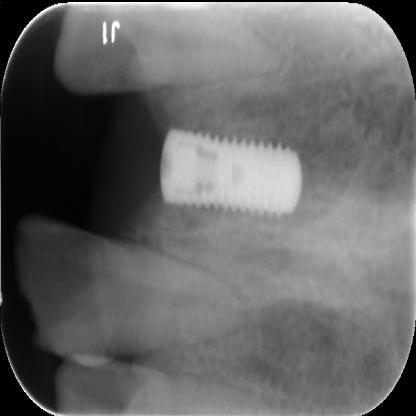ITI: (156, 120, 304, 221)
